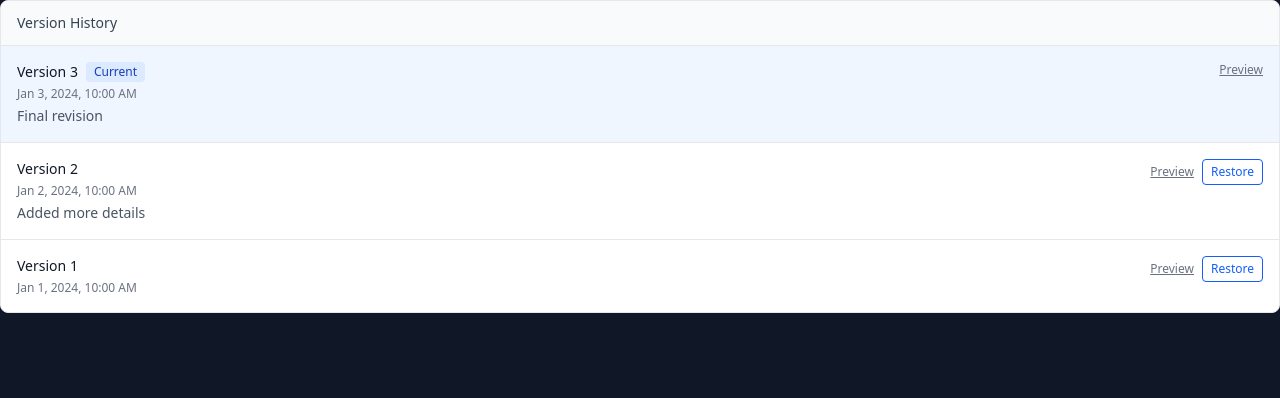
Test: VersionHistory › TC-DOC-015: Version preview functionality › should allow expanding version to see content preview
Click the 2nd button "Preview".
click(1172, 172)  # box [1150,164,1194,180]
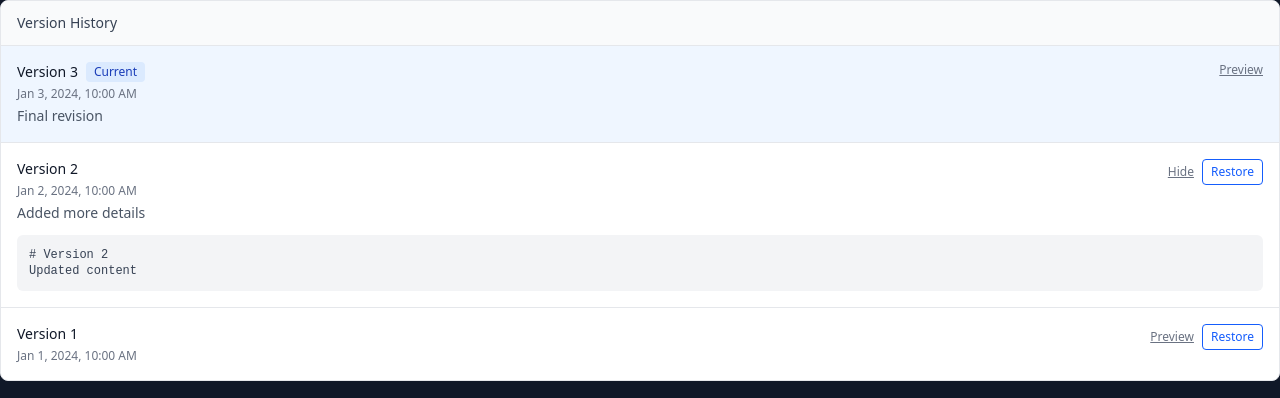
Expected: the text "# Version 2 Updated content" is shown, [29,248,137,278]
